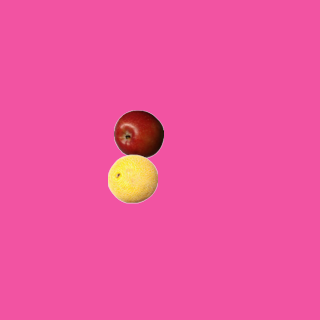Apple Braeburn: (113, 109, 163, 159)
Cantaloupe 1: (107, 153, 157, 203)
